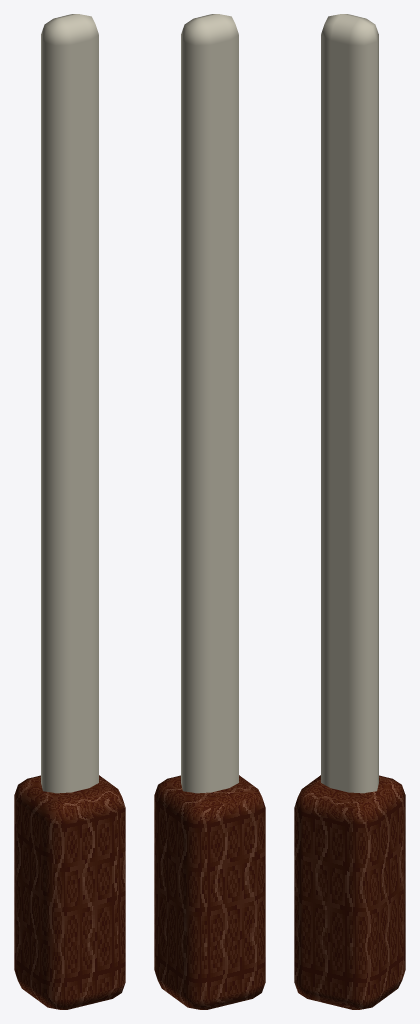
File: sword.glb
3 views of the same model, side by side, from view 1: azimuth 30°, elevation 25°; view 2: azimuth 210°, elevation 25°; view 3: azimuth 330°, elevation 25° (orthographic).
Parts seen in each view (by area): view 1: sword_blade, sword_grip; view 2: sword_blade, sword_grip; view 3: sword_blade, sword_grip.
Boxes of the visible parts, box(x1,y1,x2,y2) form: sword_blade: box(41, 14, 98, 793); sword_grip: box(14, 775, 125, 1009); sword_blade: box(181, 14, 238, 793); sword_grip: box(154, 775, 265, 1009); sword_blade: box(321, 14, 378, 793); sword_grip: box(294, 775, 405, 1009).
Bounding box in the file's own units: 0.18 × 2.07 × 0.18.
2 materials, 1 textured.
